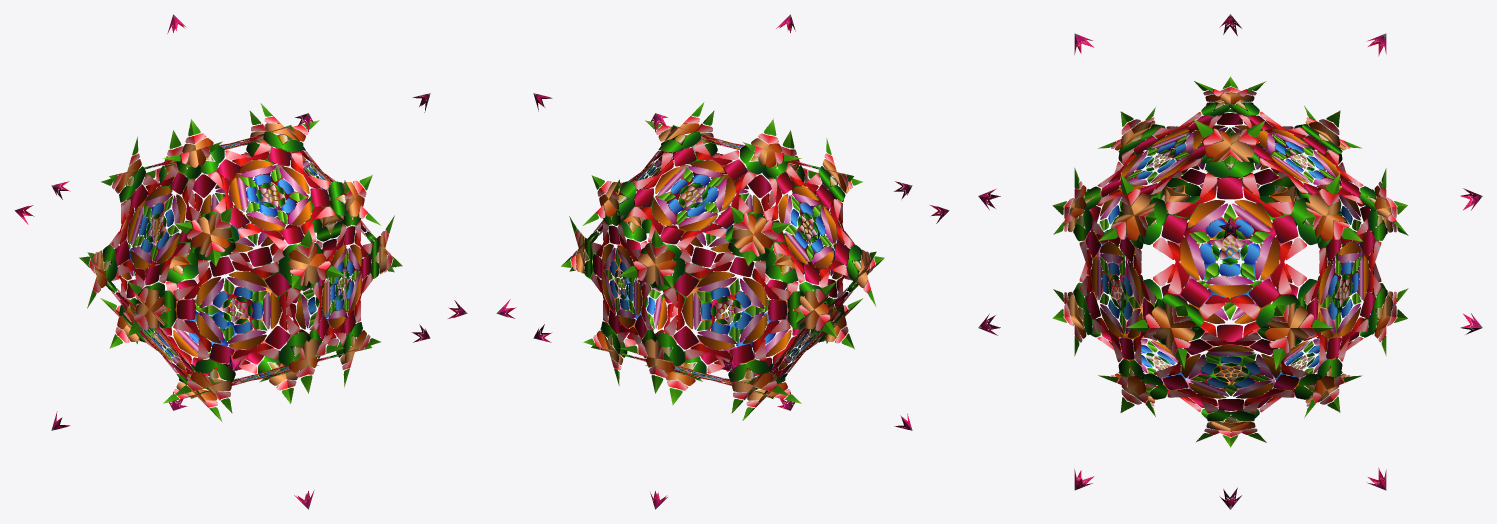
File: SmallStellatedDodecahedron.obj
3 views of the same model, side by side, from view 1: azimuth 30°, elevation 25°; view 2: azimuth 150°, elevation 25°; view 3: azimuth 270°, elevation 25° (orthographic). The views are drawn at different scales.
Bounding box in the file's own units: 1 × 1 × 1.
1 material, 1 textured.
